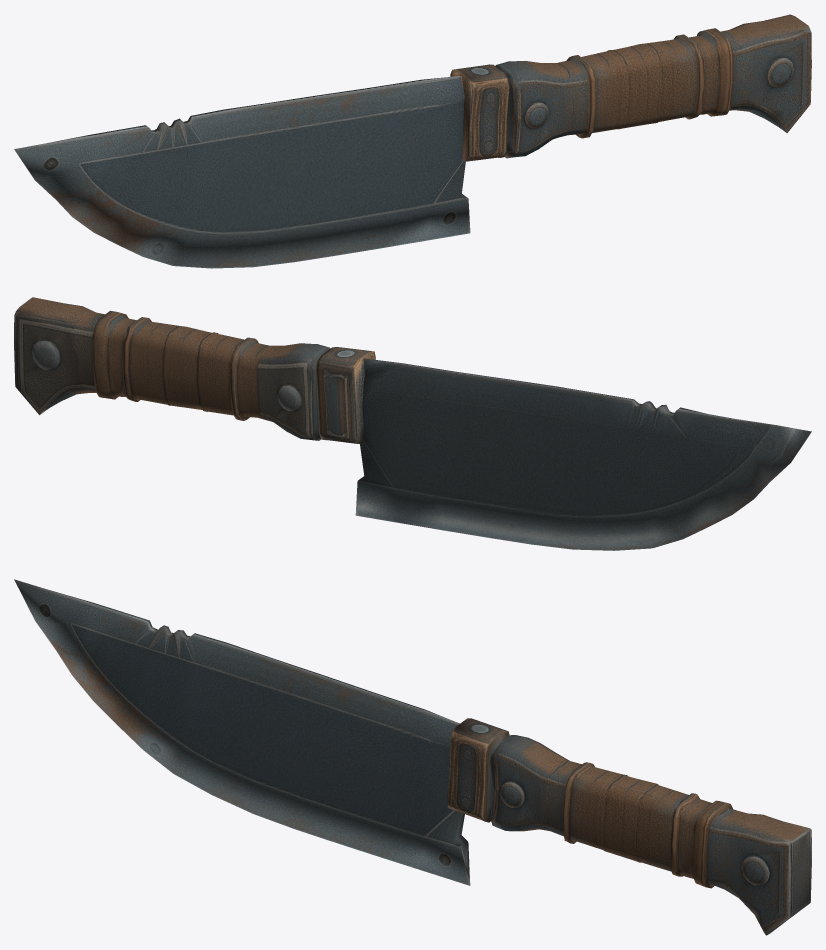
The model's file is w_cleaver.glb.
3 views of the same model, one above another, from view 1: azimuth 30°, elevation 25°; view 2: azimuth 150°, elevation 25°; view 3: azimuth 330°, elevation 25° (orthographic).
Bounding box in the file's own units: 0.9517 × 0.2256 × 0.0596.
1 material, 1 textured.
